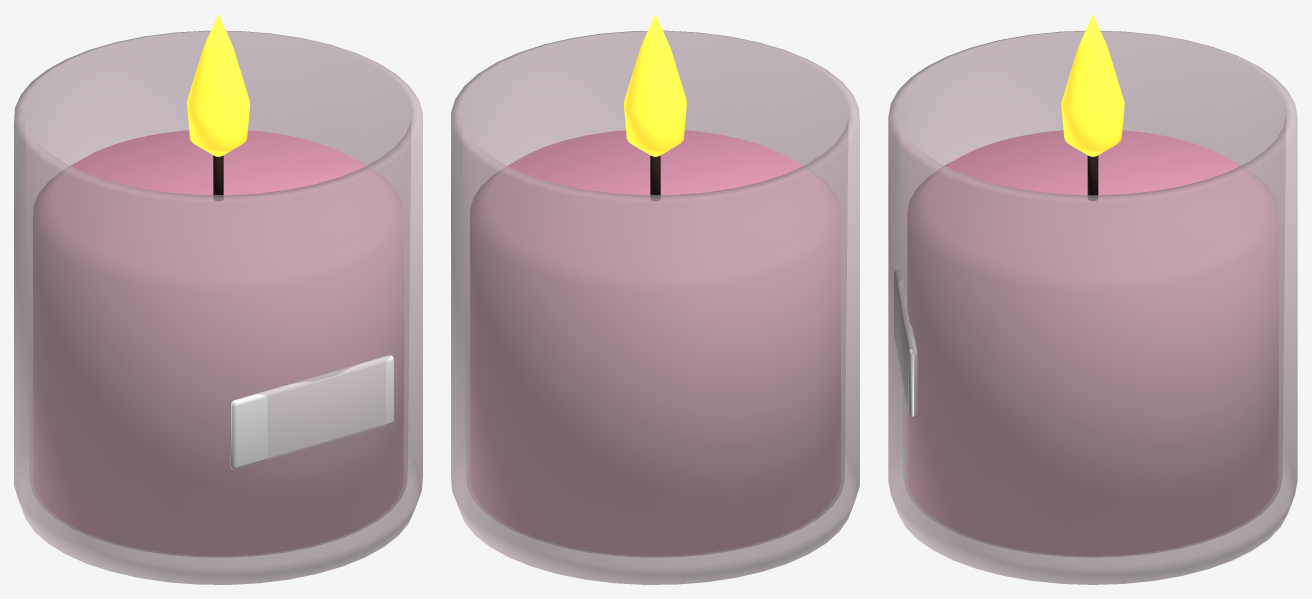
The model's file is d-candle.glb.
The picture shows the model from 3 angles, left to right: view 1: azimuth 30°, elevation 25°; view 2: azimuth 150°, elevation 25°; view 3: azimuth 270°, elevation 25°; orthographic projection.
Visible parts, largest first — view 1: d-candle; view 2: d-candle; view 3: d-candle.
Part boxes in pixels (x1,y1,x2,y2): d-candle: (14,14,422,584); d-candle: (451,14,859,584); d-candle: (888,14,1297,584).
Size of the model in its own units: 0.0761 by 0.1 by 0.0761.
